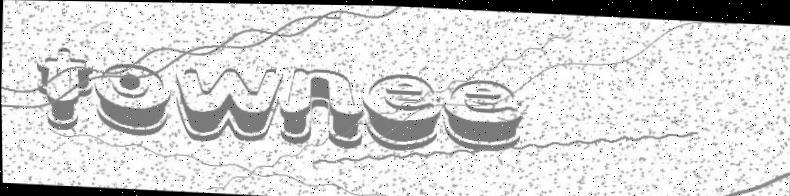e: (438, 71, 526, 155), (360, 66, 442, 153)
n: (282, 64, 367, 145)
o: (94, 58, 171, 135)
t: (32, 41, 94, 133)
w: (171, 62, 283, 145)
